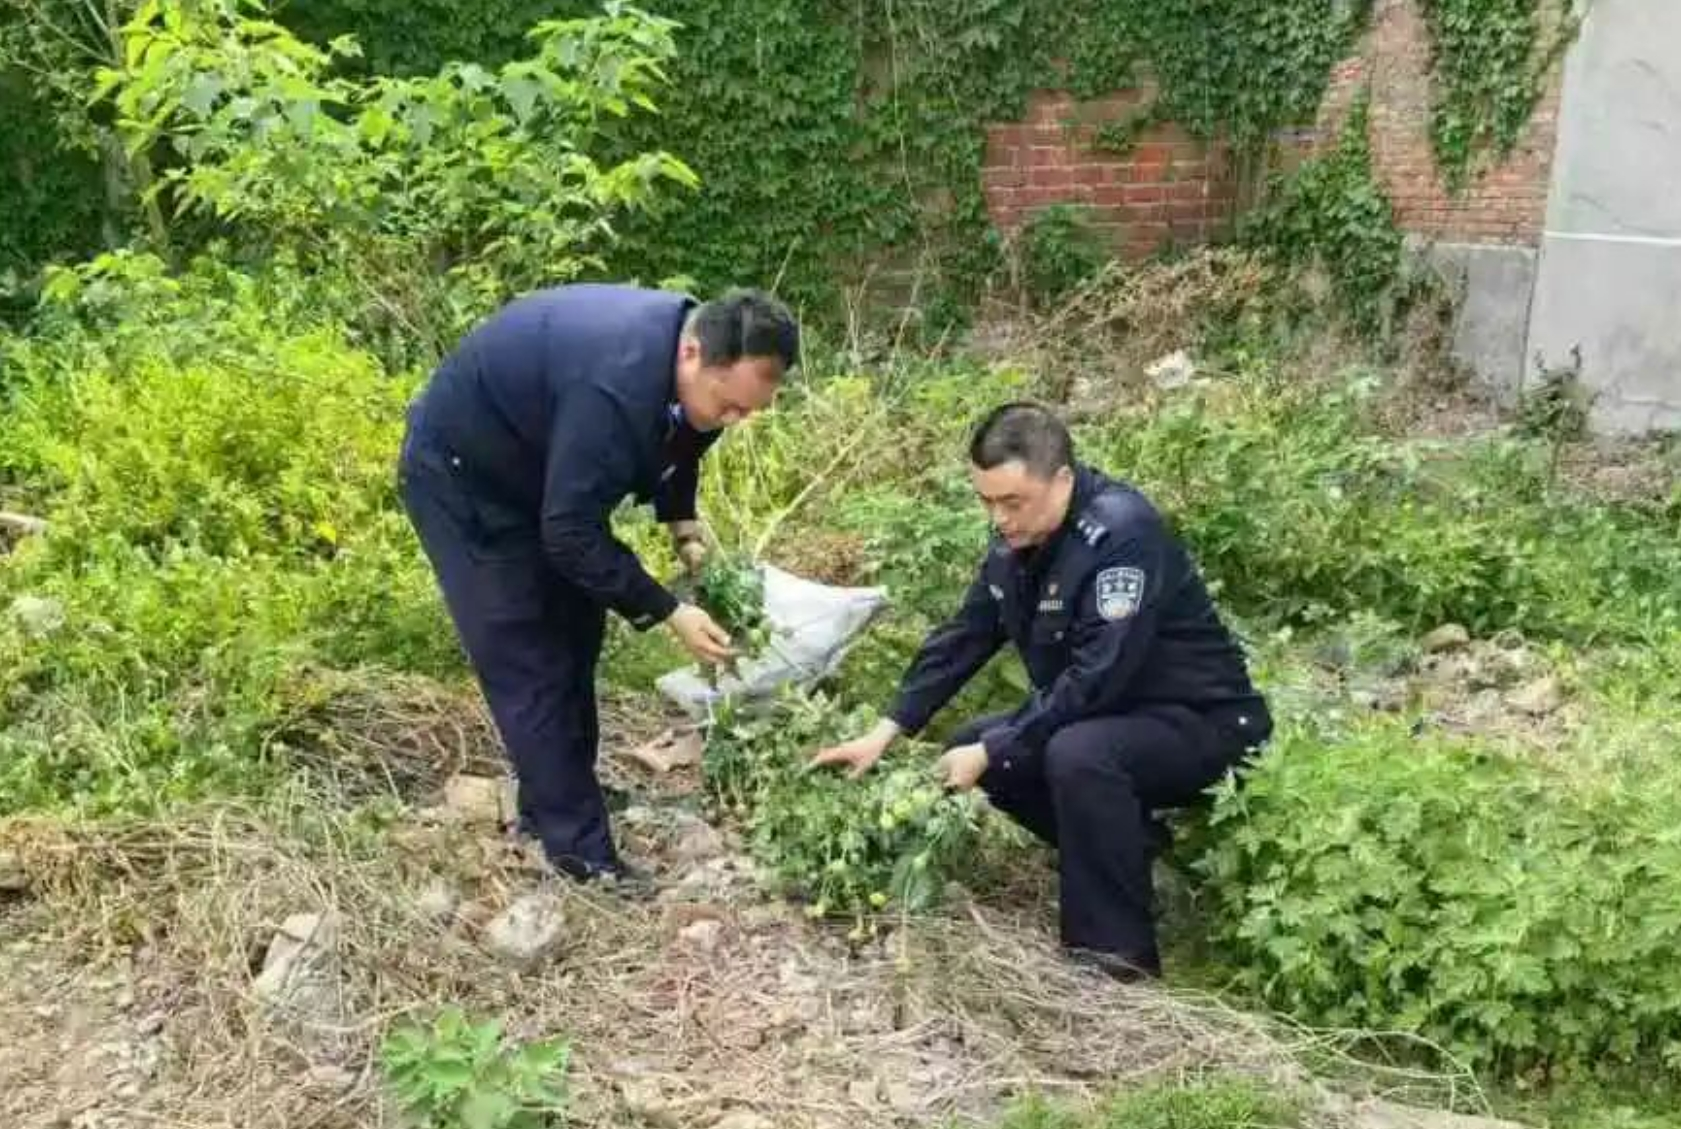Poppy: (730, 691, 1006, 943), (674, 534, 793, 685)
